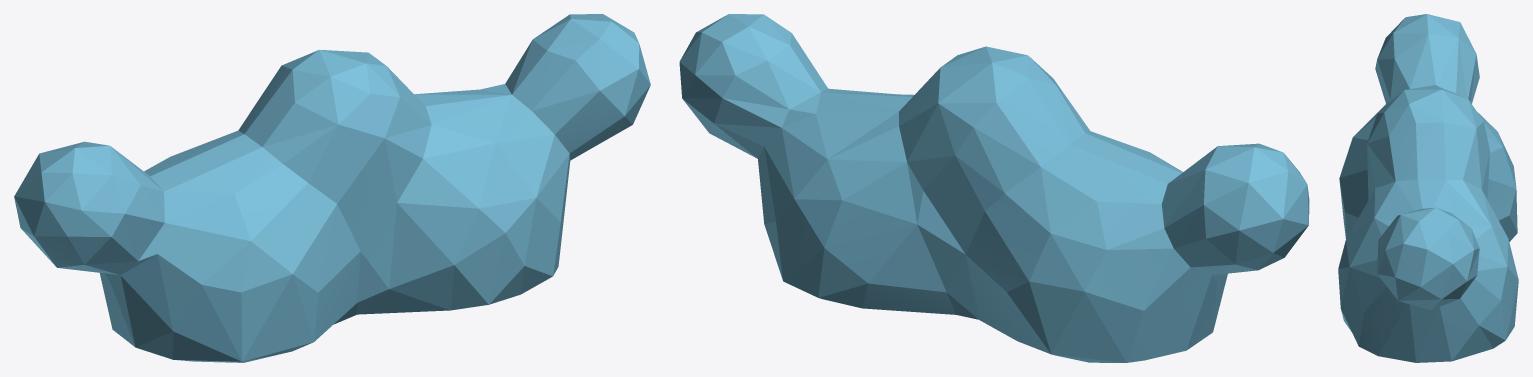
File: small_cloud_28.fbx
3 views of the same model, side by side, from view 1: azimuth 30°, elevation 25°; view 2: azimuth 150°, elevation 25°; view 3: azimuth 270°, elevation 25° (orthographic). The views are drawn at different scales.
Parts seen in each view (by area): view 1: cloud_38; view 2: cloud_38; view 3: cloud_38.
Boxes of the visible parts, box(x1,y1,x2,y2) form: cloud_38: box(14, 14, 650, 362); cloud_38: box(679, 14, 1309, 362); cloud_38: box(1338, 14, 1518, 362).
Size of the model in its own units: 578 by 229 by 184.
